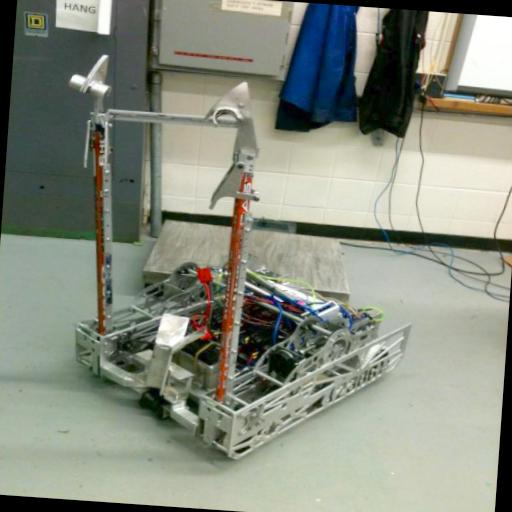robot: (46, 58, 442, 482)
